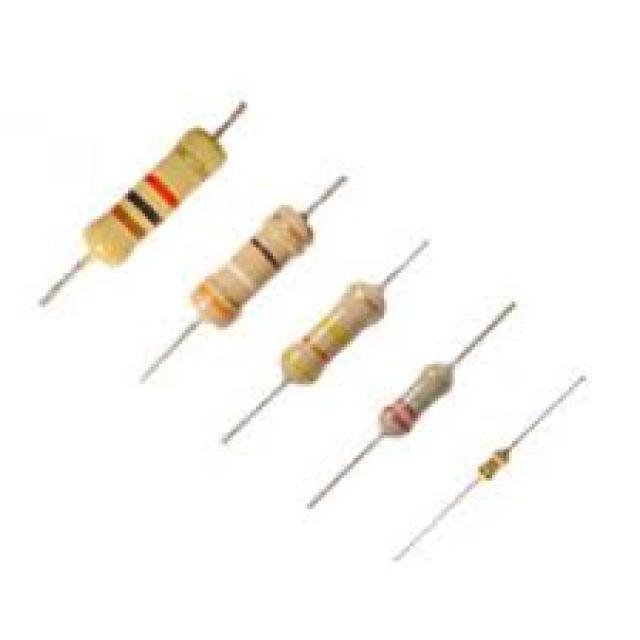Resistor: (70, 104, 239, 278), (194, 206, 317, 328), (285, 278, 390, 382), (380, 362, 456, 437)
